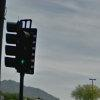Traffic light: (2, 11, 46, 82)
